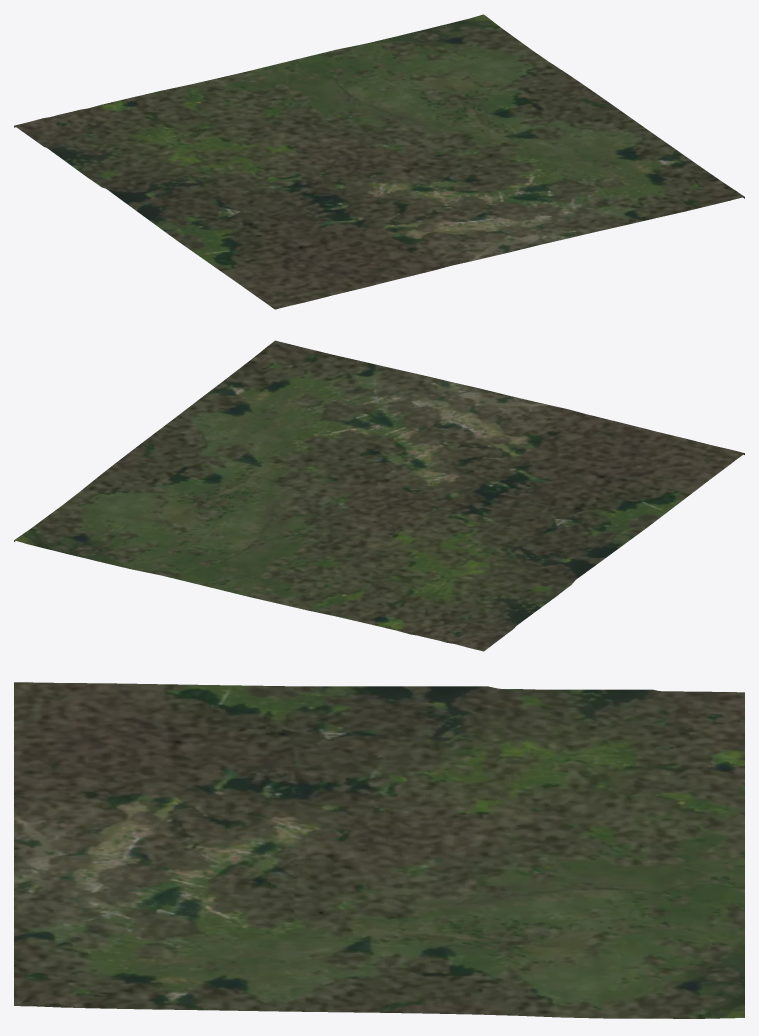
3 views of the same model, one above another, from view 1: azimuth 30°, elevation 25°; view 2: azimuth 150°, elevation 25°; view 3: azimuth 270°, elevation 25° (orthographic). The views are drawn at different scales.
Bounding box in the file's own units: 250 × 7.27 × 241.
Materials: 1 (1 with a texture image).
